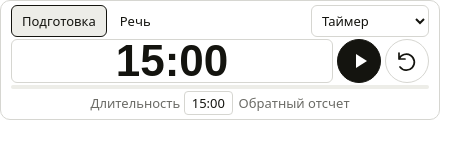
Test: timer input and display › does not start after an uncertain edit and blocks repeated changes until retry
Replace the text in the field named "Время, мм:сс" with "7:00". click: coordinates (172, 61)
box: 11,39 -> 333,83
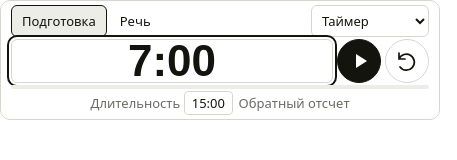
Click the button named "Запустить таймер". click: coordinates (359, 61)
box: 337,39 -> 381,83
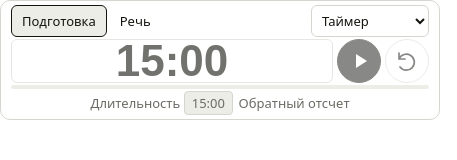
Now the field named "Время, мм:сс" is disabled, box 11,39 -> 333,83
Now the button named "Запустить таймер" is disabled, box 337,39 -> 381,83
